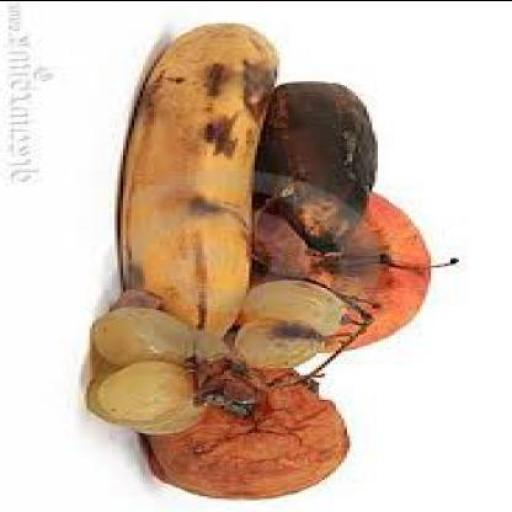biodegradable: (118, 24, 280, 340), (254, 190, 462, 354), (140, 363, 352, 501), (258, 82, 383, 255), (87, 366, 210, 438), (98, 358, 199, 426), (93, 309, 201, 369), (246, 280, 350, 338), (237, 318, 330, 372), (190, 329, 232, 369), (106, 288, 168, 310)
